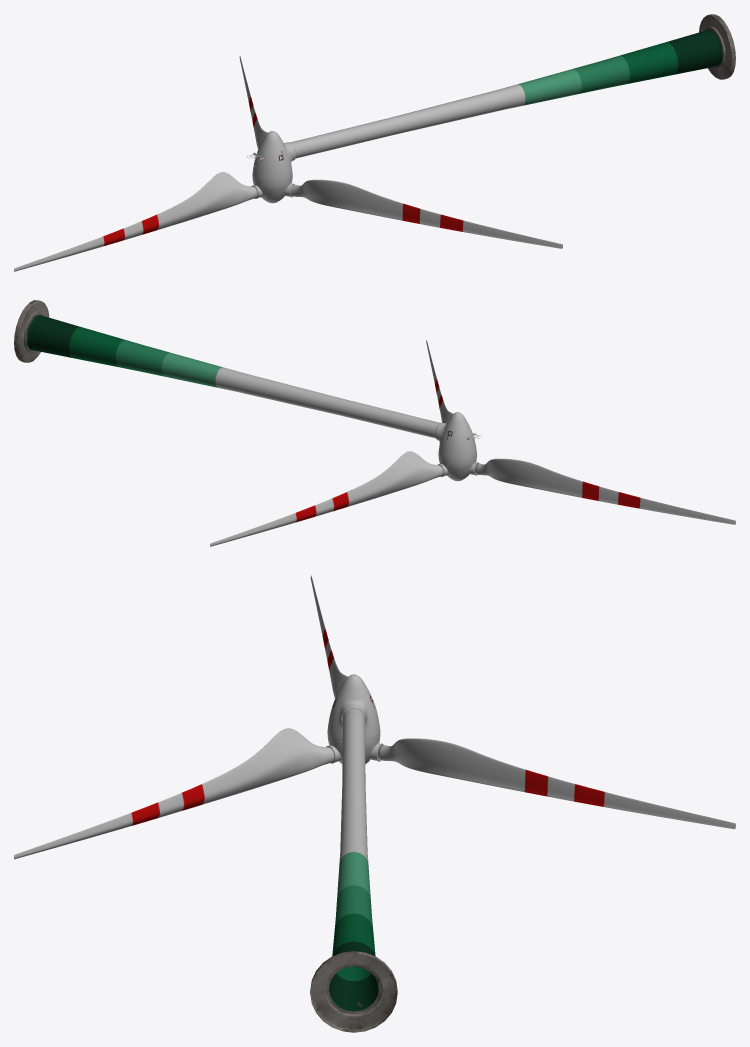
Rendered from Wind turbine Clean.fbx.
The picture shows the model from 3 angles, top to bottom: view 1: azimuth 30°, elevation 25°; view 2: azimuth 150°, elevation 25°; view 3: azimuth 270°, elevation 25°; orthographic projection. The views are drawn at different scales.
Visible parts, largest first — view 1: pole_low, blade_low, body_low; view 2: pole_low, blade_low, body_low; view 3: blade_low, pole_low, body_low.
Boxes of the visible parts, <box> form: pole_low: <box>291,14,735,158</box>; blade_low: <box>14,56,562,271</box>; body_low: <box>252,131,295,182</box>; pole_low: <box>14,300,439,438</box>; blade_low: <box>210,340,735,546</box>; body_low: <box>435,412,476,461</box>; blade_low: <box>14,575,735,859</box>; pole_low: <box>310,708,397,1032</box>; body_low: <box>327,674,380,741</box>.
Size of the model in its own units: 1591 by 245 by 2412.
Materials: 1 (1 with a texture image).
